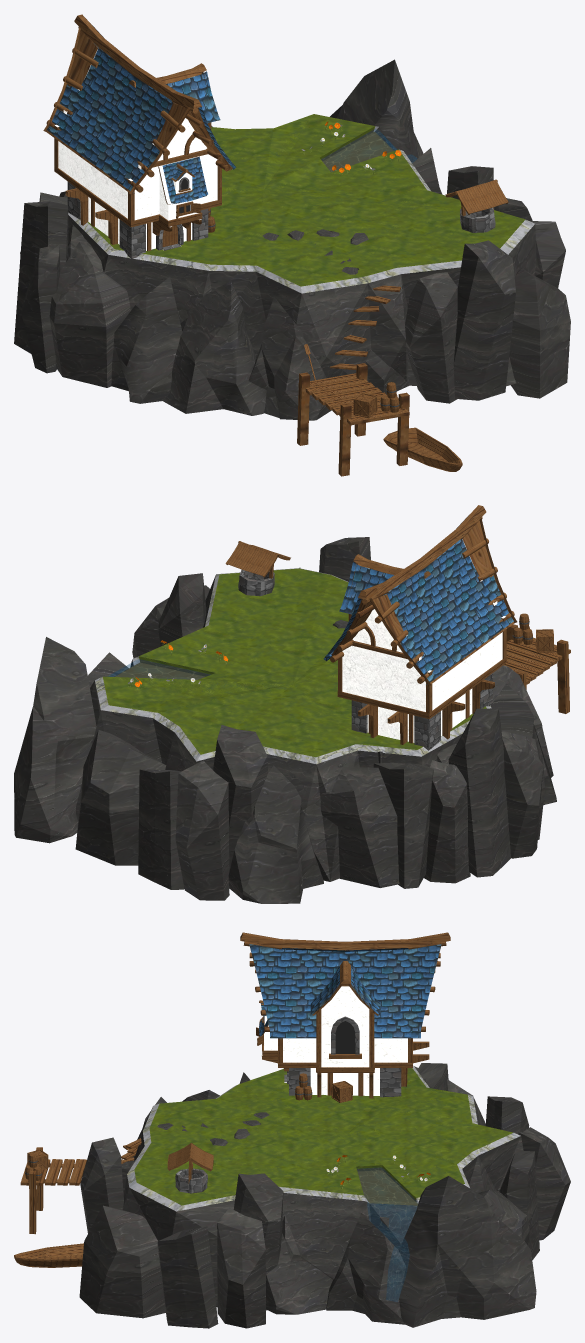
File: Isla.glb
3 views of the same model, one above another, from view 1: azimuth 30°, elevation 25°; view 2: azimuth 150°, elevation 25°; view 3: azimuth 270°, elevation 25° (orthographic). The views are drawn at different scales.
Visible parts, largest first — view 1: polySurface32, polySurface10, well, pCube22, polySurface1, polySurface31, pCube16, pCube18, pCube19; view 2: polySurface32, polySurface10, well, polySurface1, pCube18; view 3: polySurface32, polySurface10, polySurface1, well, pCube22.
Boxes of the visible parts, x1,y1,x2,y2 form: polySurface32: (14,59,570,420); polySurface10: (43,14,236,258); well: (445,179,508,232); pCube22: (383,427,462,471); polySurface1: (321,129,416,171); polySurface31: (339,350,408,394); pCube16: (297,372,310,445); pCube18: (338,403,351,476); pCube19: (396,392,409,465); polySurface32: (14,537,556,903); polySurface10: (323,505,517,750); well: (225,541,290,596); polySurface1: (108,659,210,679); pCube18: (557,639,569,713); polySurface32: (79,1063,570,1328); polySurface10: (240,932,450,1098); polySurface1: (357,1167,417,1301); well: (167,1143,213,1193); pCube22: (14,1243,83,1267).
Bounding box in the file's own units: 20.13 × 13.08 × 23.84.
Materials: 16 (10 with a texture image).
